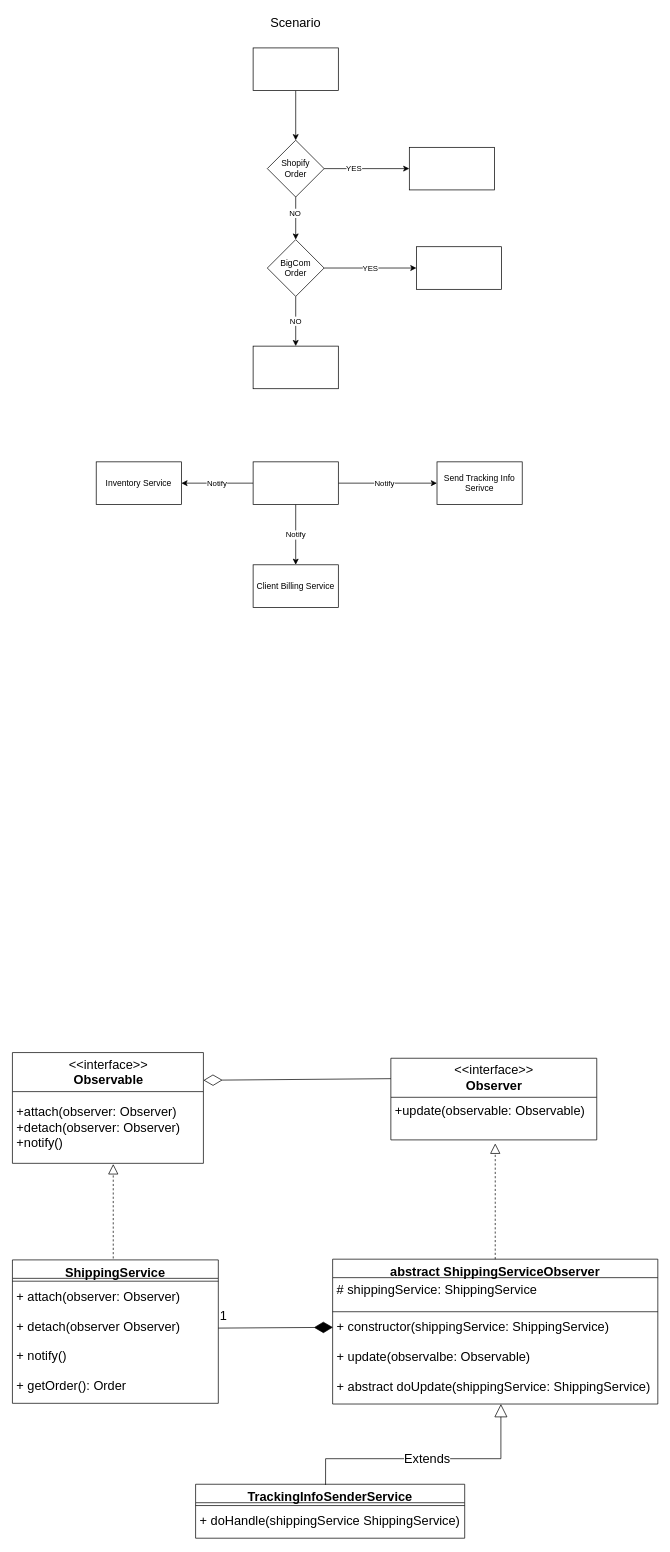
The diagram is 670 pixels wide and 1552 high, and some of its shapes have lost their labels. Here are the shapes that lost their labels. From the top down, the centre of each, then its label:
At point (295, 69): "Order shipped".
At point (452, 168): "Send tracking info to Shopify".
At point (459, 267): "Send tracking info to BigCommerce".
At point (295, 367): "Email tracking info to Customer".
At point (295, 482): "Order Shipping Service".
